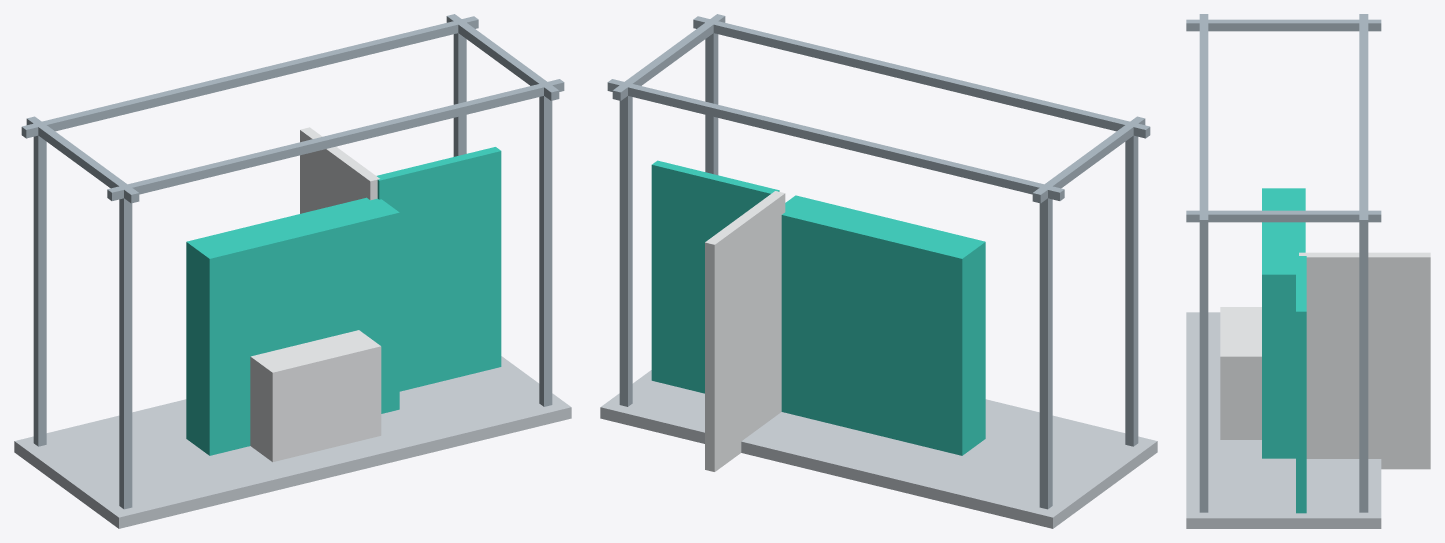
The picture shows the model from 3 angles, left to right: view 1: azimuth 30°, elevation 25°; view 2: azimuth 150°, elevation 25°; view 3: azimuth 270°, elevation 25°; orthographic projection. The views are drawn at different scales.
Parts seen in each view (by area): view 1: Exhibition Booth Concept; view 2: Exhibition Booth Concept; view 3: Exhibition Booth Concept.
Part boxes in pixels (x1=…): Exhibition Booth Concept: x1=14, y1=14, x2=571, y2=528; Exhibition Booth Concept: x1=600, y1=14, x2=1157, y2=528; Exhibition Booth Concept: x1=1186, y1=14, x2=1430, y2=528.
Size of the model in its own units: 5 by 3.49 by 2.5.
